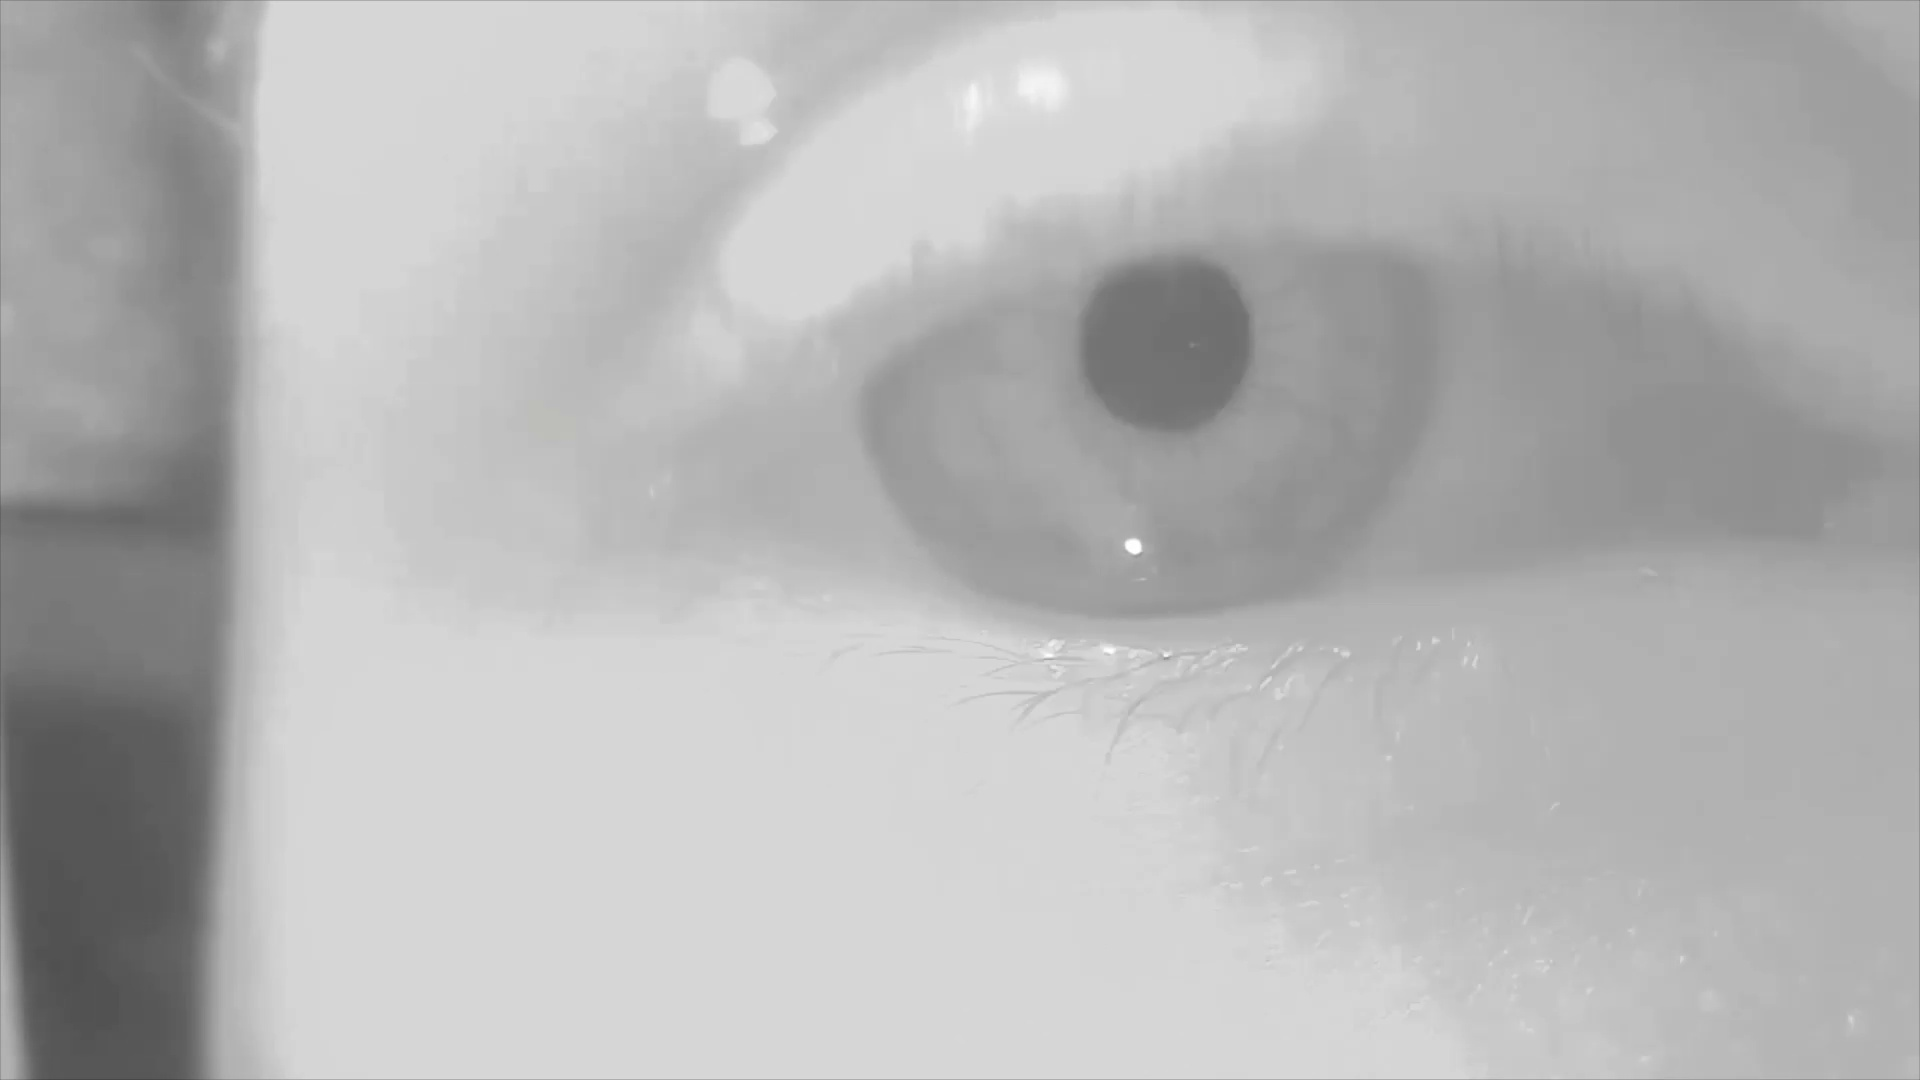pupil: (1091, 257, 1259, 440)
